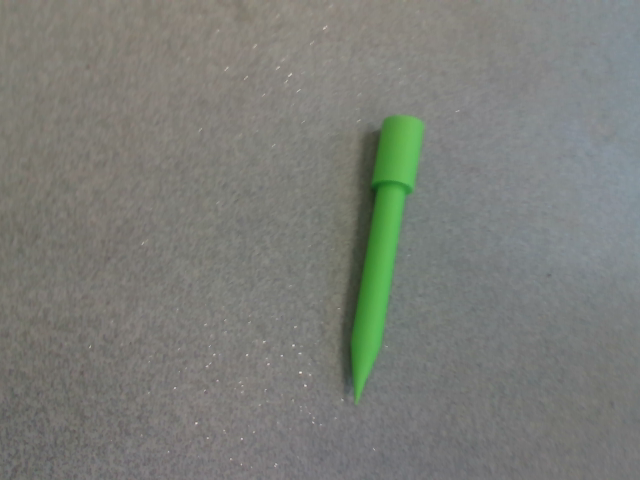Probe: (343, 103, 434, 410)
